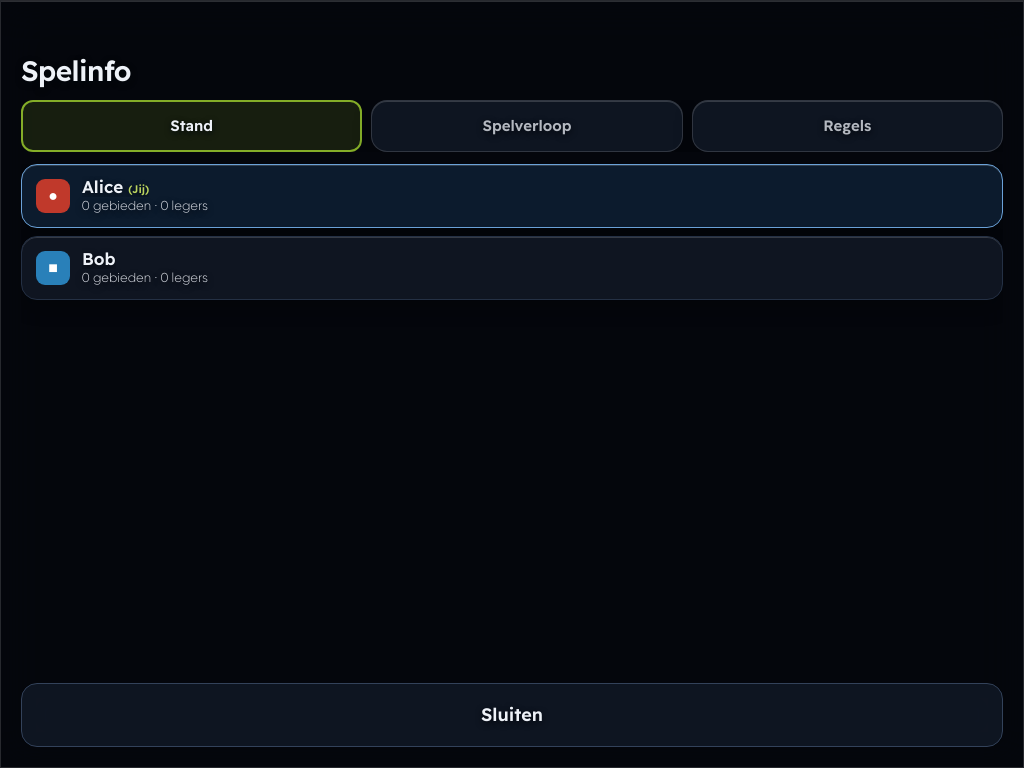
GameInfoPanel › haalt het verloop pas op bij het openen van het tabblad Spelverloop
Click the button "Spelverloop". click: (527, 126)
box: [372, 101, 682, 151]
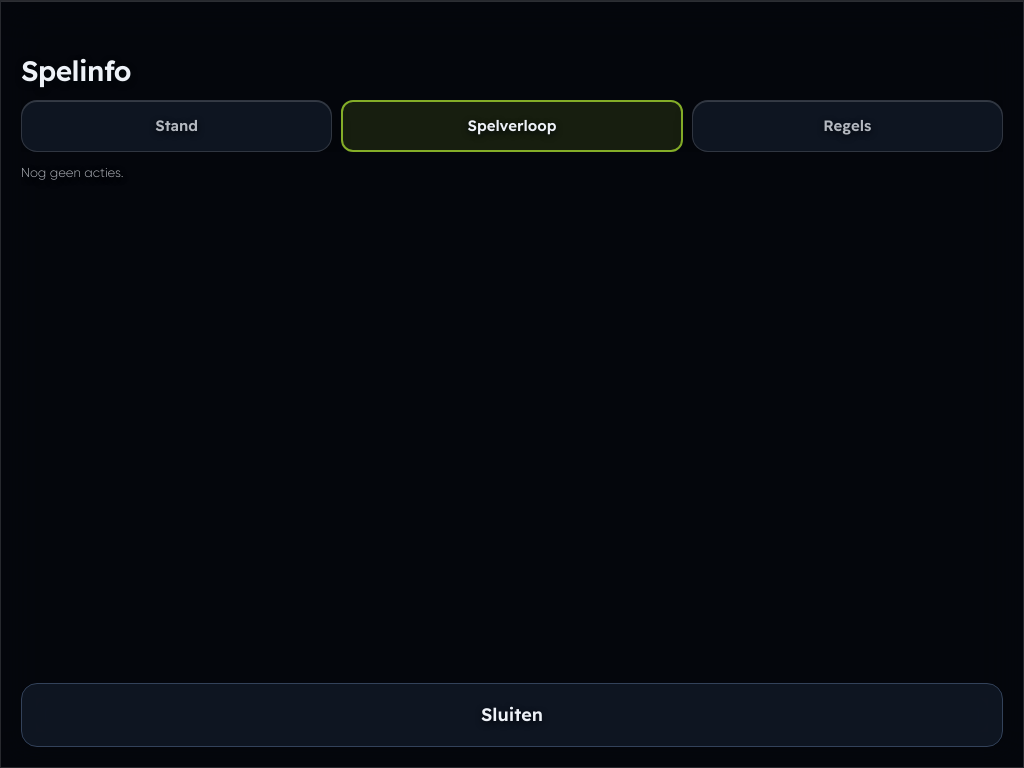
Expected: the text "Nog geen acties." is shown, [21, 165, 124, 180]
